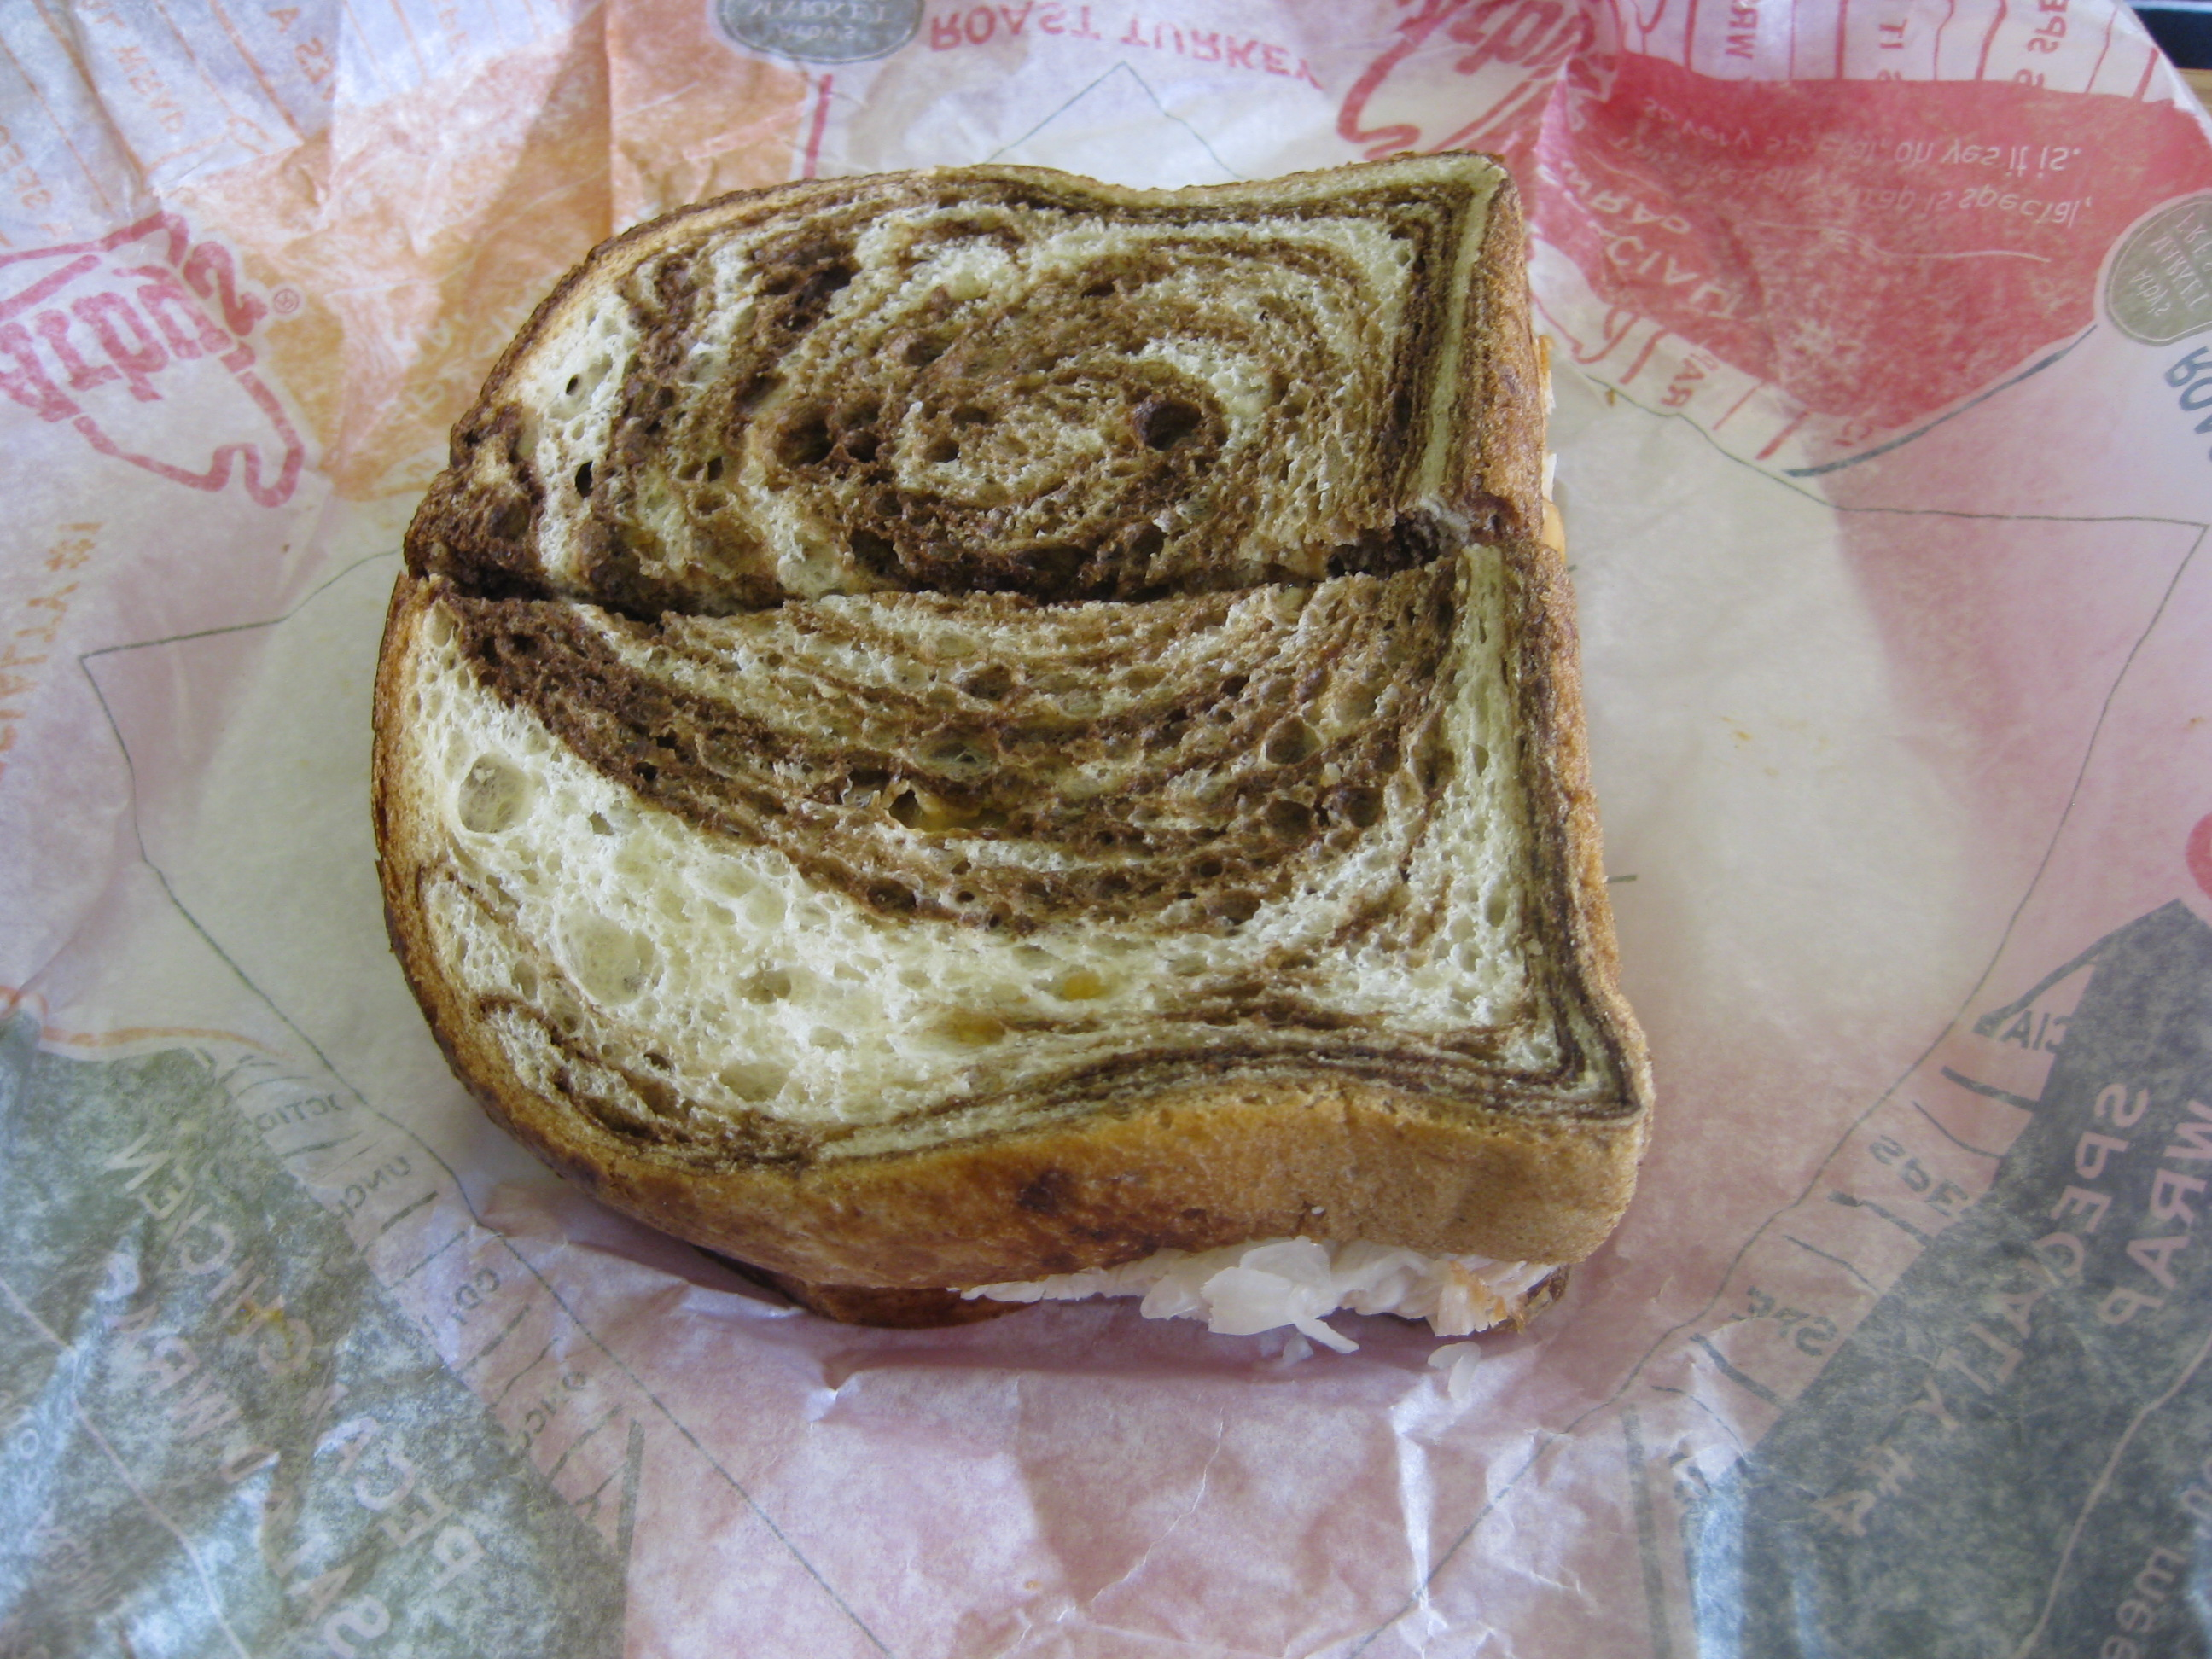sandwich: (364, 134, 1785, 1376)
